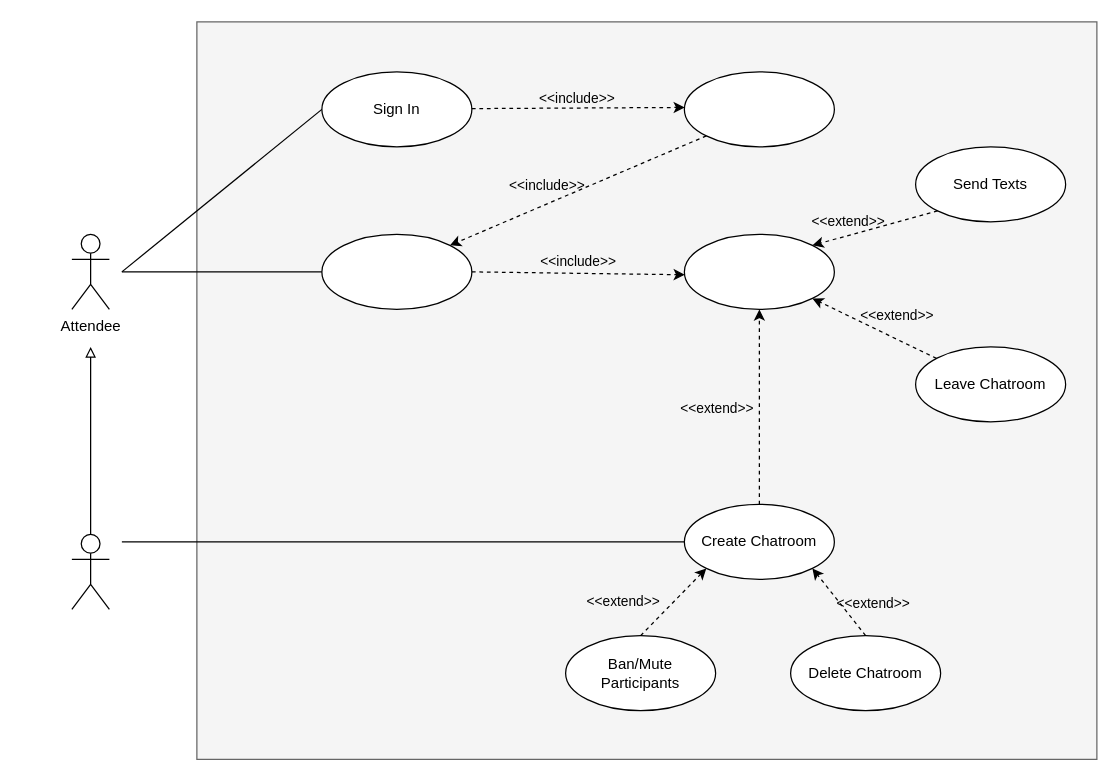
This 1119x781 diagram has some shape labels left out. The shapes that lost their labels are listed below. From the top down, each one's centre as x and y in pixels, then its label:
(x=758, y=109): Choose Interests
(x=396, y=271): Navigate the Map
(x=758, y=271): Enter Chatroom
(x=90, y=571): Chatroom Moderator
